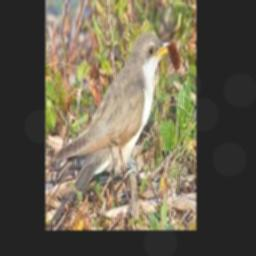Cuckoo: (47, 33, 170, 230)
